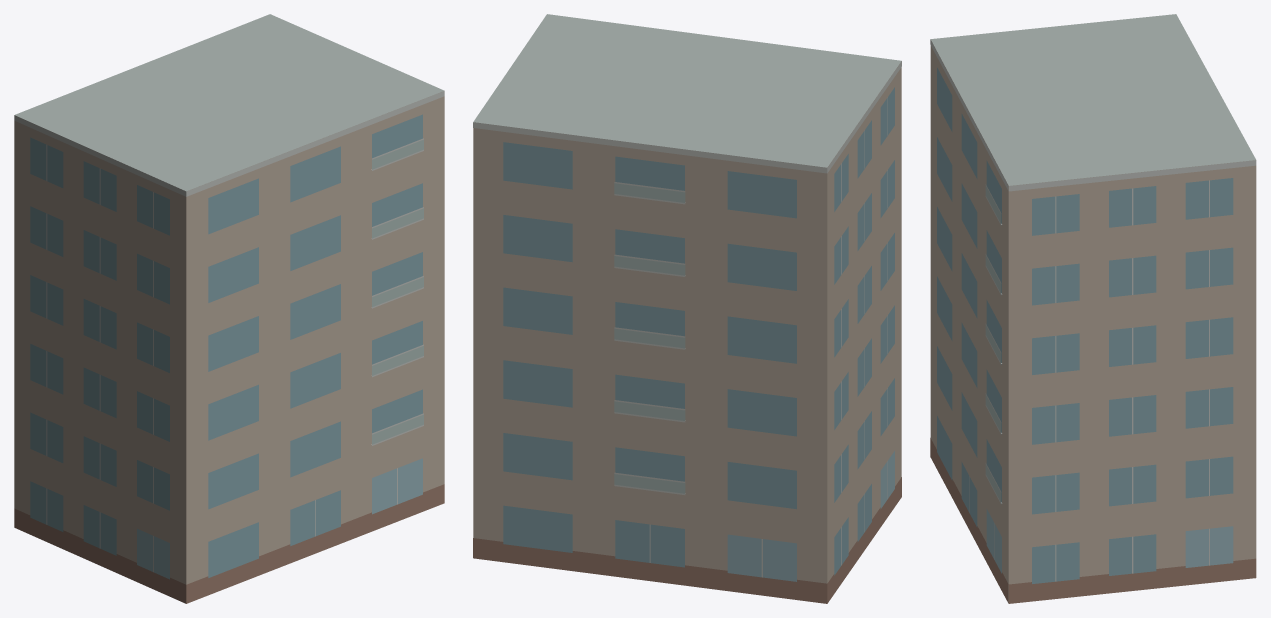
File: survey-upis-32848410.glb
The picture shows the model from 3 angles, left to right: view 1: azimuth 30°, elevation 25°; view 2: azimuth 150°, elevation 25°; view 3: azimuth 270°, elevation 25°; orthographic projection. The views are drawn at different scales.
Parts seen in each view (by area): view 1: survey-upis-32848410.tmp; view 2: survey-upis-32848410.tmp; view 3: survey-upis-32848410.tmp.
Part boxes in pixels (x1,y1,x2,y2): survey-upis-32848410.tmp: (14, 14, 444, 603); survey-upis-32848410.tmp: (473, 14, 901, 603); survey-upis-32848410.tmp: (930, 14, 1256, 603).
Bounding box in the file's own units: 16.15 × 18.3 × 12.94.
